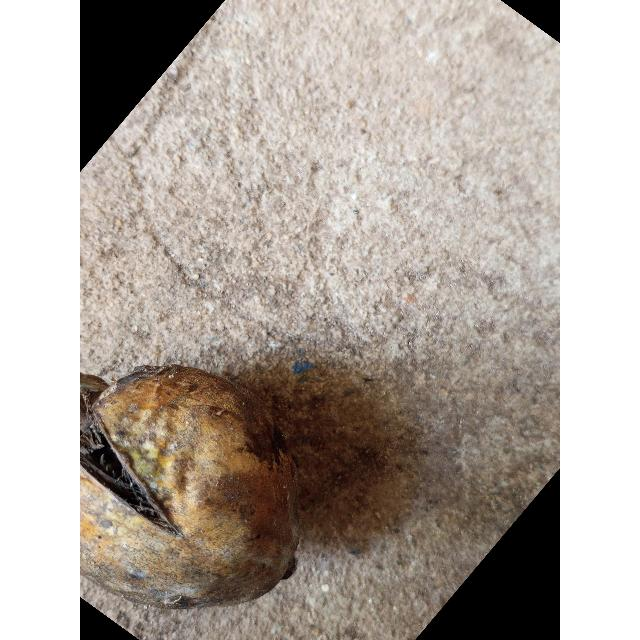damaged: (80, 366, 301, 617)
